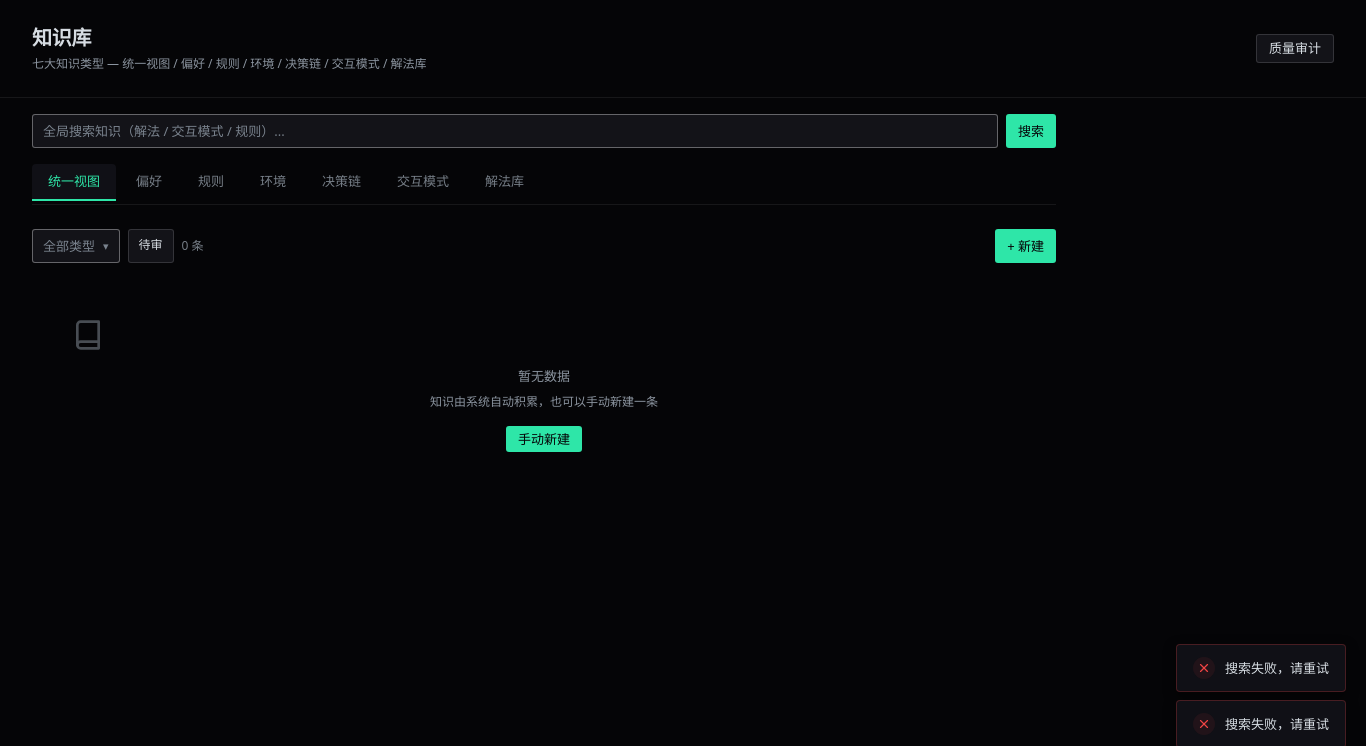
it: 批次 F-4: 统一视图空态挂「手动新建」入口（双语境） › 真空态出图标 + 说明 + 「手动新建」按钮，点击展开新建表单
This screenshot has width=1366, height=746.
Expected: the text "暂无数据" is shown, x1=518 y1=367 x2=570 y2=385
Expected: the text "知识由系统自动积累，也可以手动新建一条" is shown, x1=430 y1=393 x2=658 y2=410
What coordinates should you click on to do the following:
click the button "手动新建"
I would click on:
 (544, 439)
Its box is x1=506 y1=426 x2=582 y2=452.
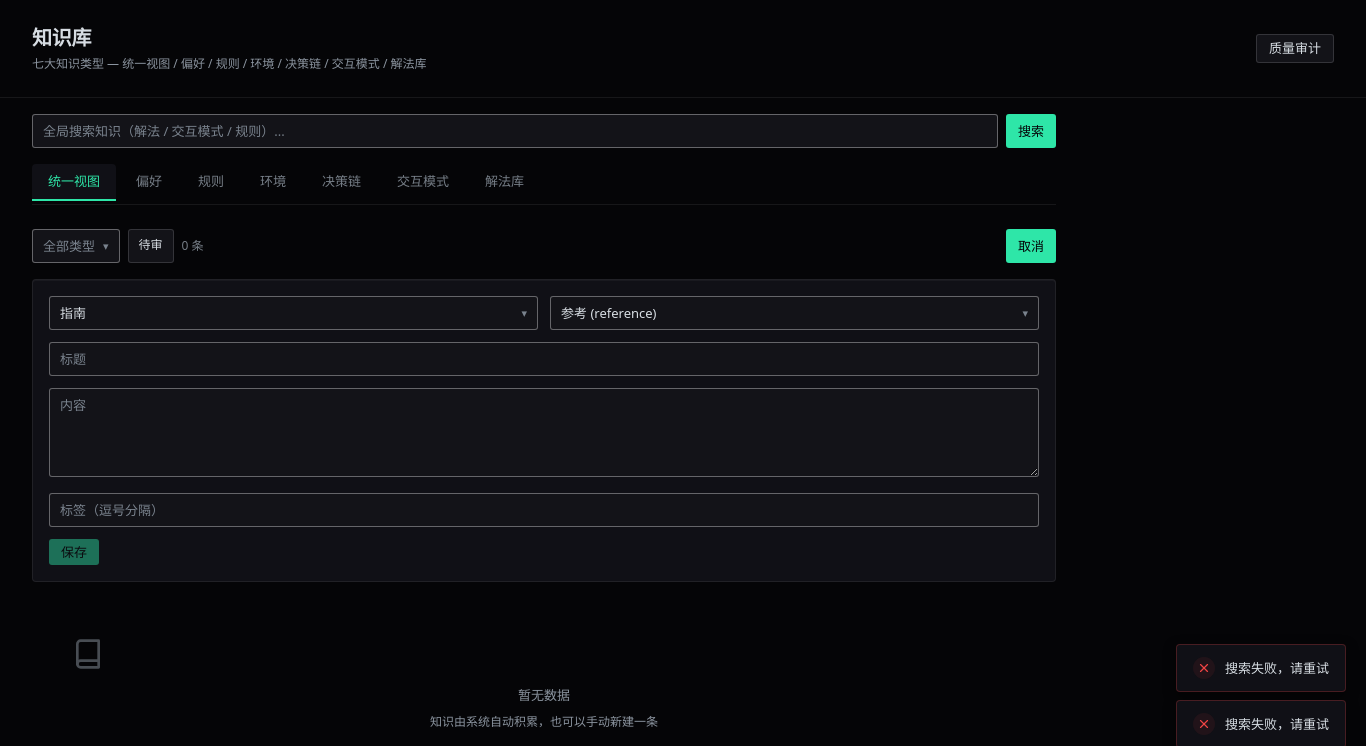
Now the field with placeholder "标题" is shown, box x1=49 y1=342 x2=1039 y2=376
